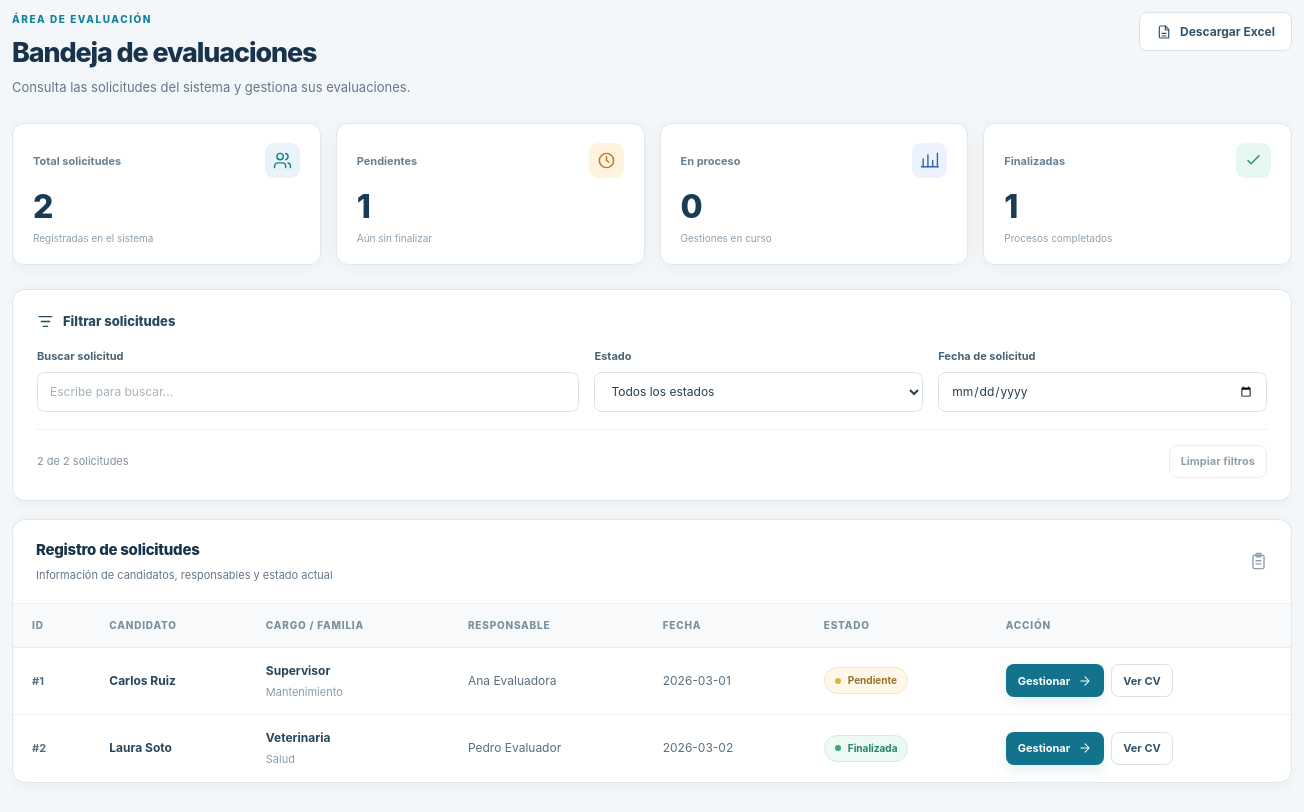
Test: Vista ListadoSolicitudes › debe filtrar por estado utilizando el select
expect the text "Carlos Ruiz" is shown: met, box [109,673,176,688]
Select "Finalizada" in the dropdown labelled "Estado": (759, 392) [594,372,923,412]
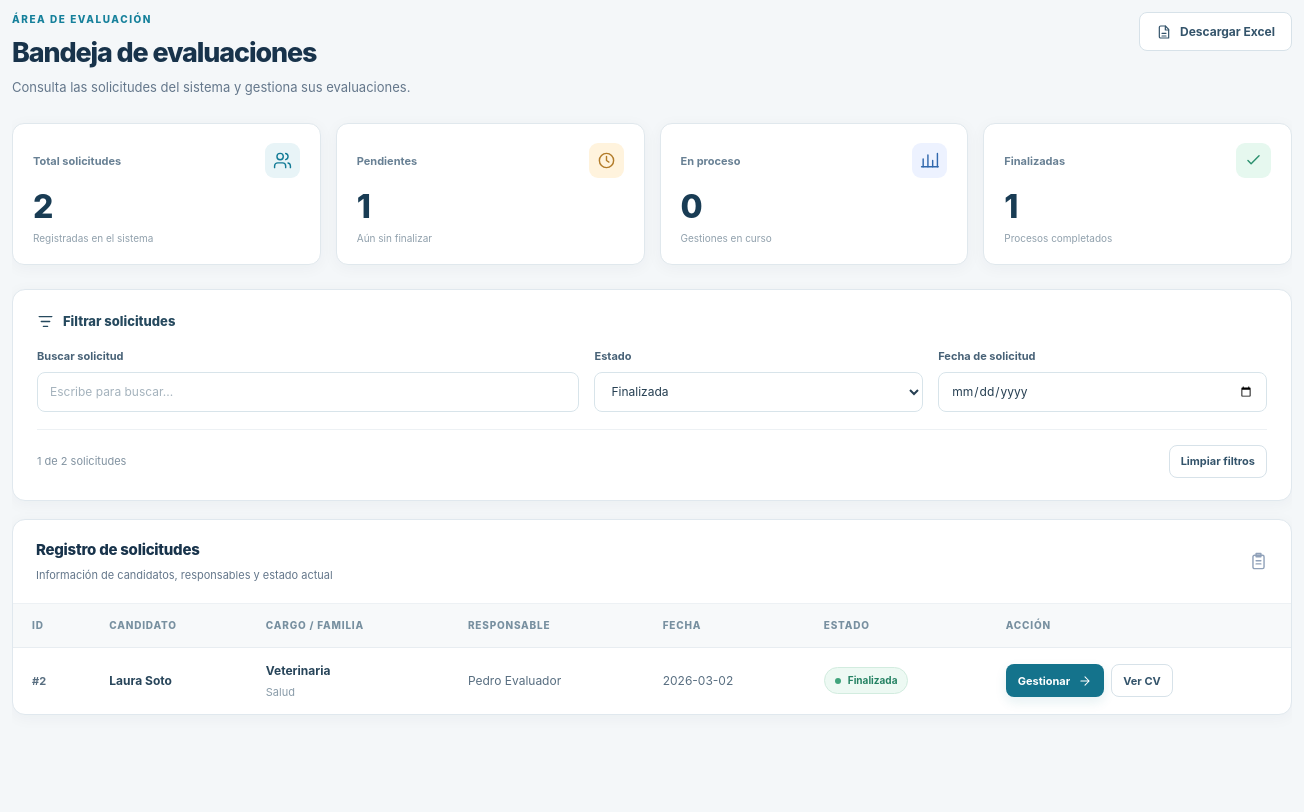
expect the text "Laura Soto" is shown: met, box [109,673,172,688]
expect the text "Carlos Ruiz" is gone: met
